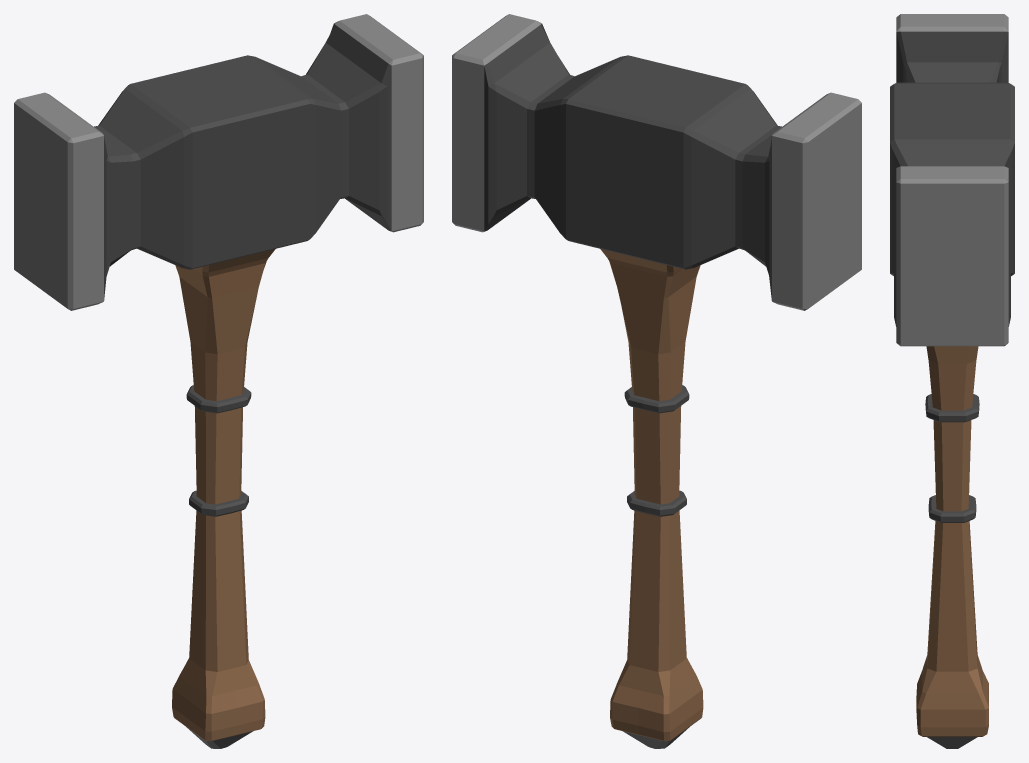
Rendered from Hammer.fbx.
3 renders of one model, left to right at view 1: azimuth 30°, elevation 25°; view 2: azimuth 150°, elevation 25°; view 3: azimuth 270°, elevation 25°, orthographic. The views are drawn at different scales.
Visible parts, largest first — view 1: Hammer_001; view 2: Hammer_001; view 3: Hammer_001.
Boxes of the visible parts, box(x1,y1,x2,y2) form: Hammer_001: box(14, 14, 423, 748); Hammer_001: box(452, 14, 861, 748); Hammer_001: box(890, 14, 1014, 748).
Bounding box in the file's own units: 194 × 349 × 60.63.
